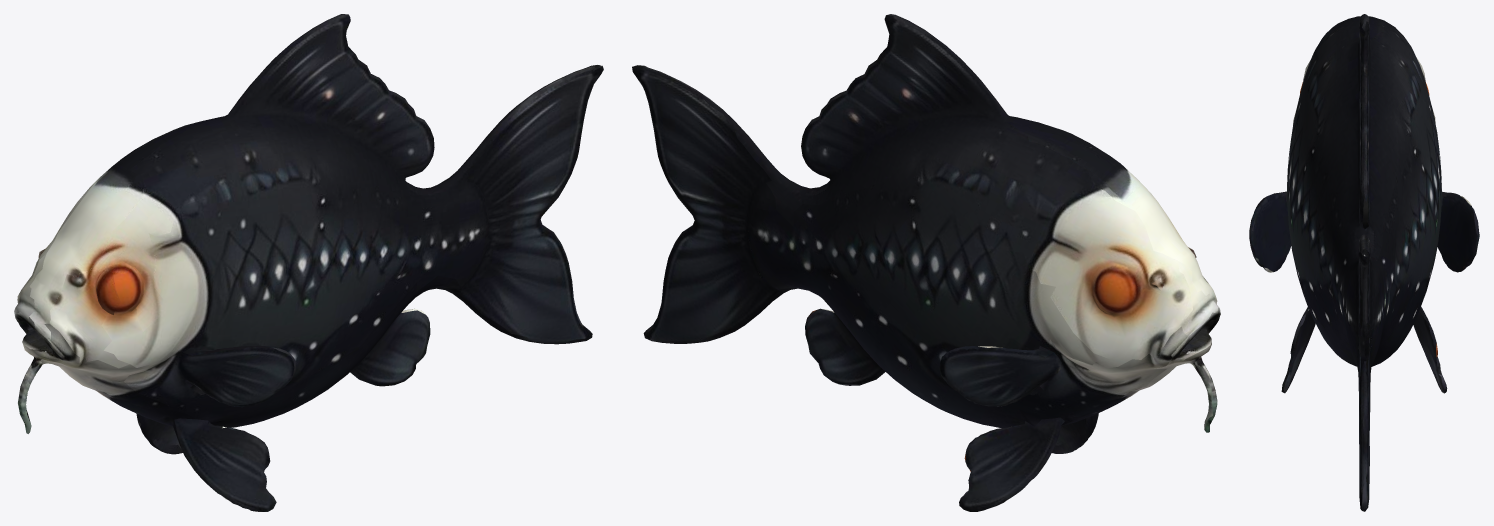
The model's file is fish_ferryman.glb.
3 renders of one model, left to right at view 1: azimuth 30°, elevation 25°; view 2: azimuth 150°, elevation 25°; view 3: azimuth 270°, elevation 25°, orthographic. The views are drawn at different scales.
Parts seen in each view (by area): view 1: fish_ferryman; view 2: fish_ferryman; view 3: fish_ferryman.
Part boxes in pixels (x1,y1,x2,y2): fish_ferryman: (14, 14, 603, 511); fish_ferryman: (632, 14, 1220, 511); fish_ferryman: (1249, 14, 1479, 511).
Bounding box in the file's own units: 1 × 0.7168 × 0.3513.
Materials: 1 (1 with a texture image).
